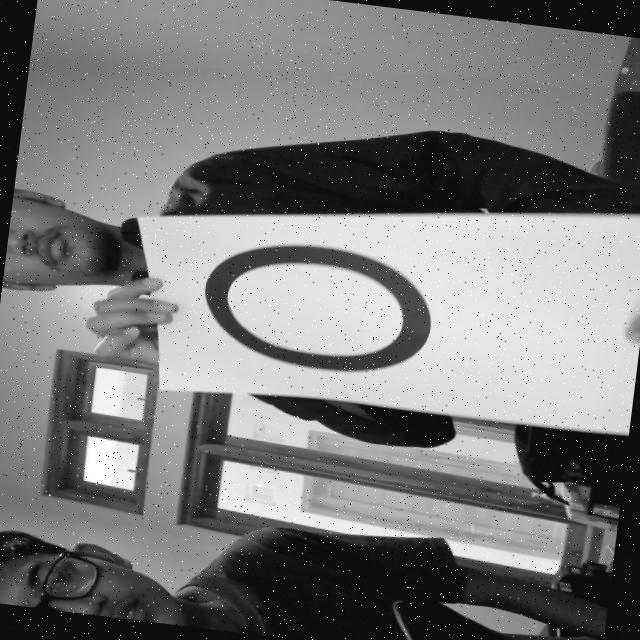o: (194, 222, 447, 386)
